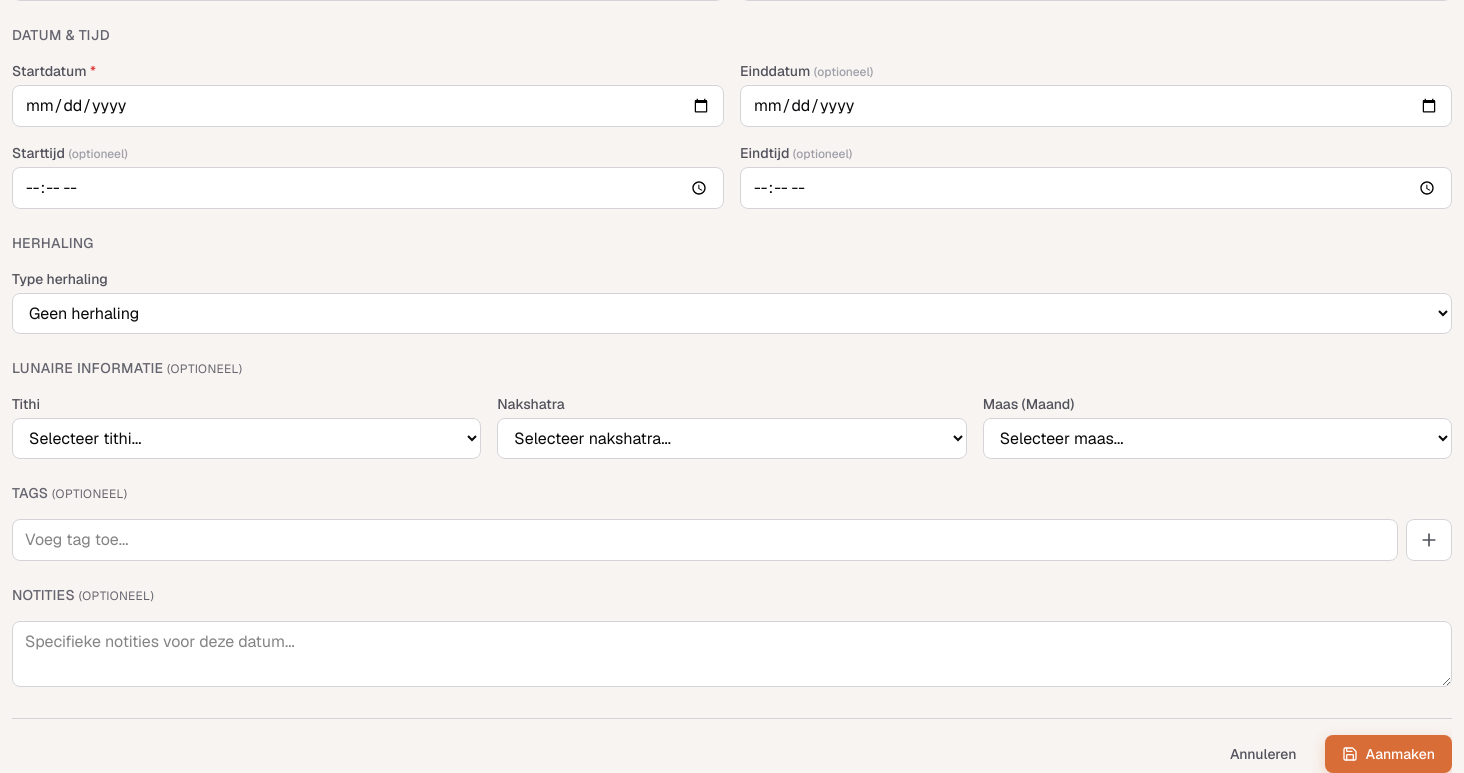
EventForm › handles tag addition and removal edge cases
(page scrolled)
Click the button named "Tag toevoegen" at point(1429, 540), box left=1406, top=519, right=1452, bottom=561
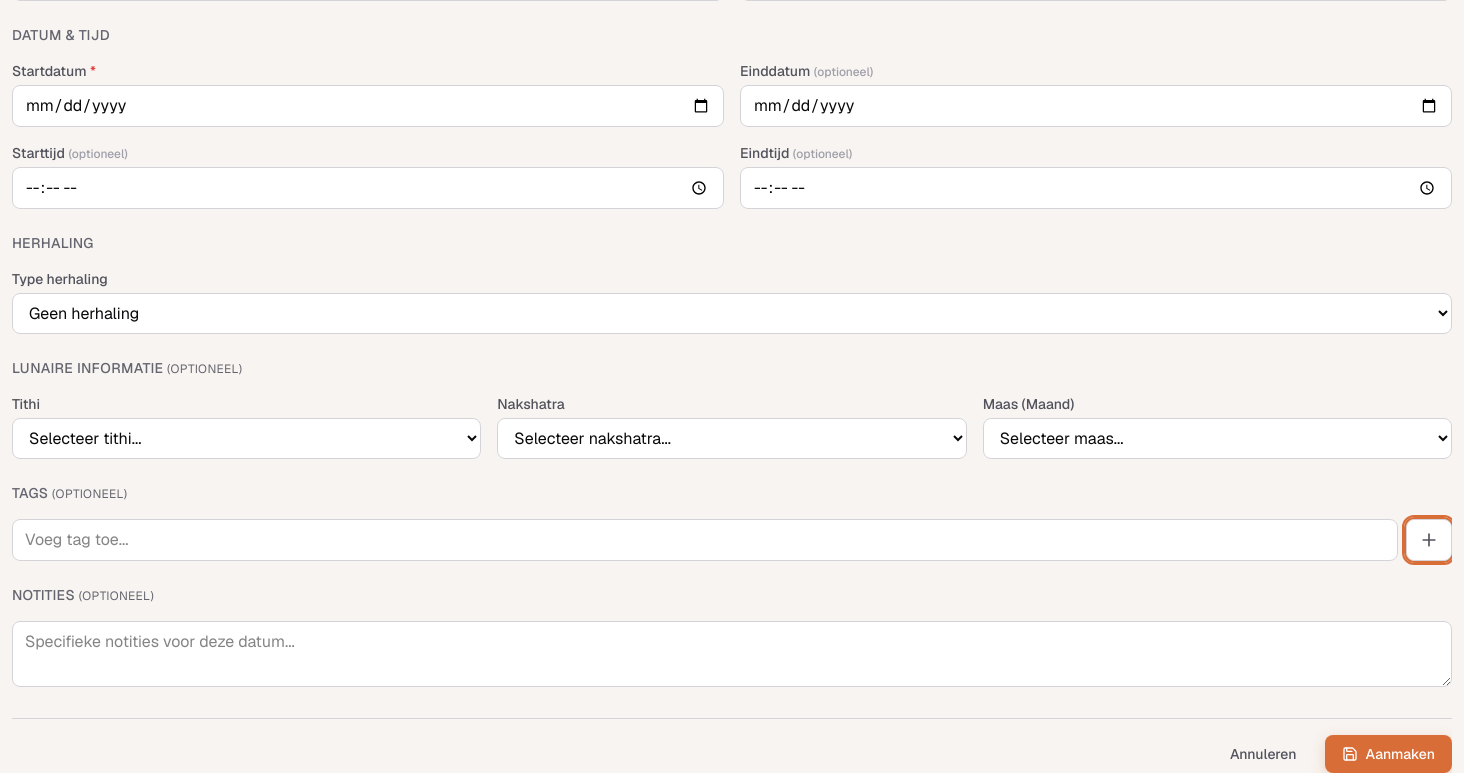
Type "shivaratri" into the field with placeholder "Voeg tag toe..." at point(705, 540), box left=12, top=519, right=1398, bottom=561
Then press Enter
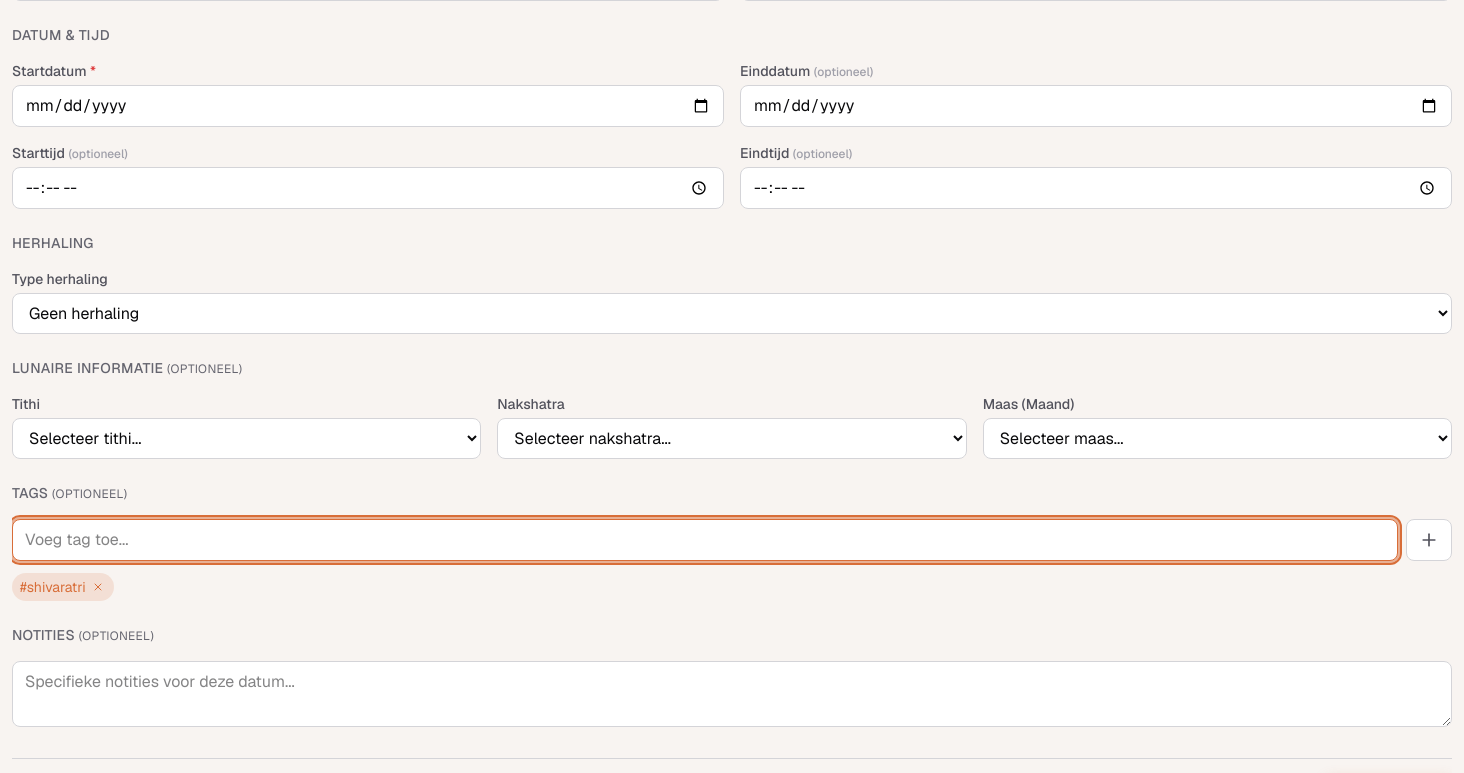
Result: the text "#shivaratri" is shown once at left=12, top=573, right=114, bottom=601
Click the button named "Tag shivaratri verwijderen" at point(98, 587), box left=90, top=579, right=106, bottom=595
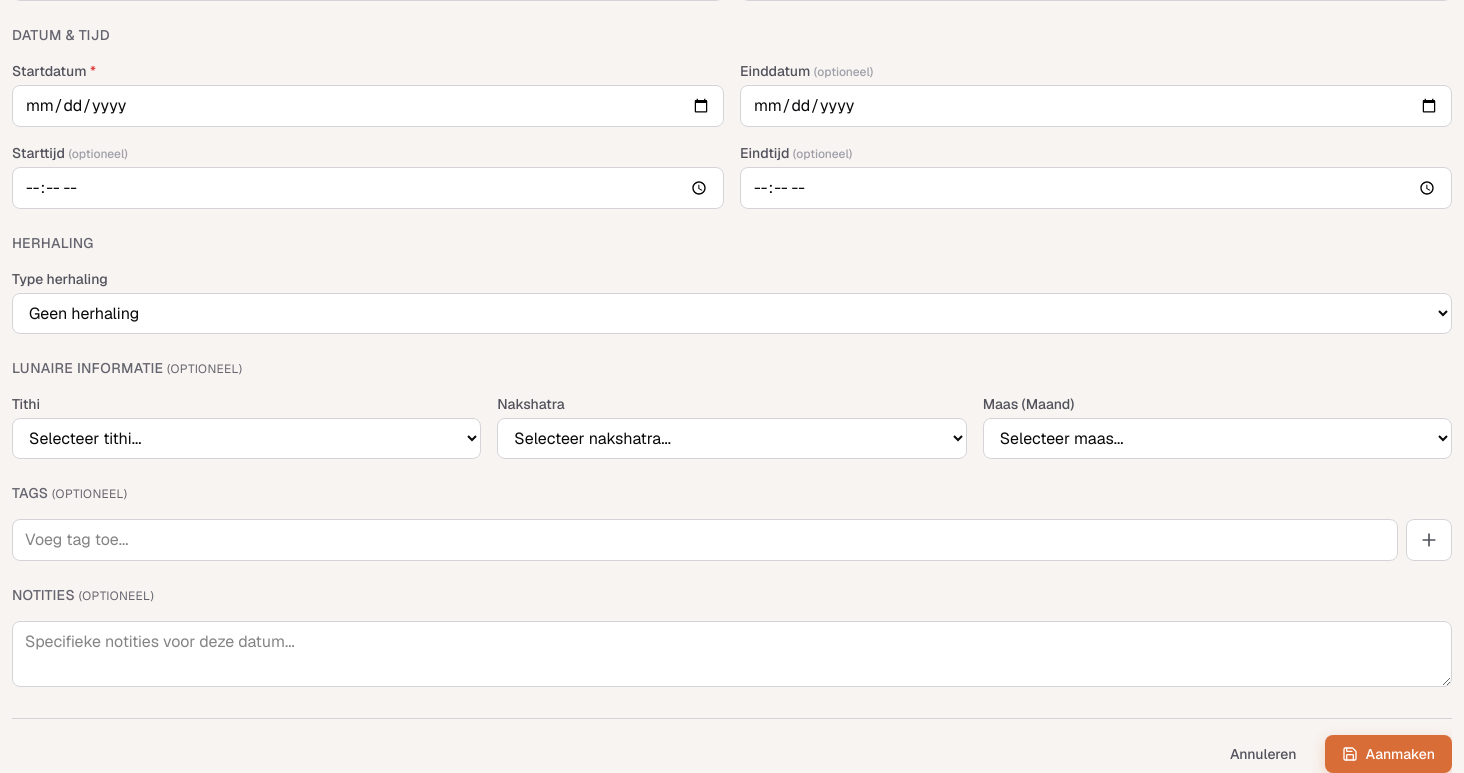
Result: the text "#shivaratri" is gone
